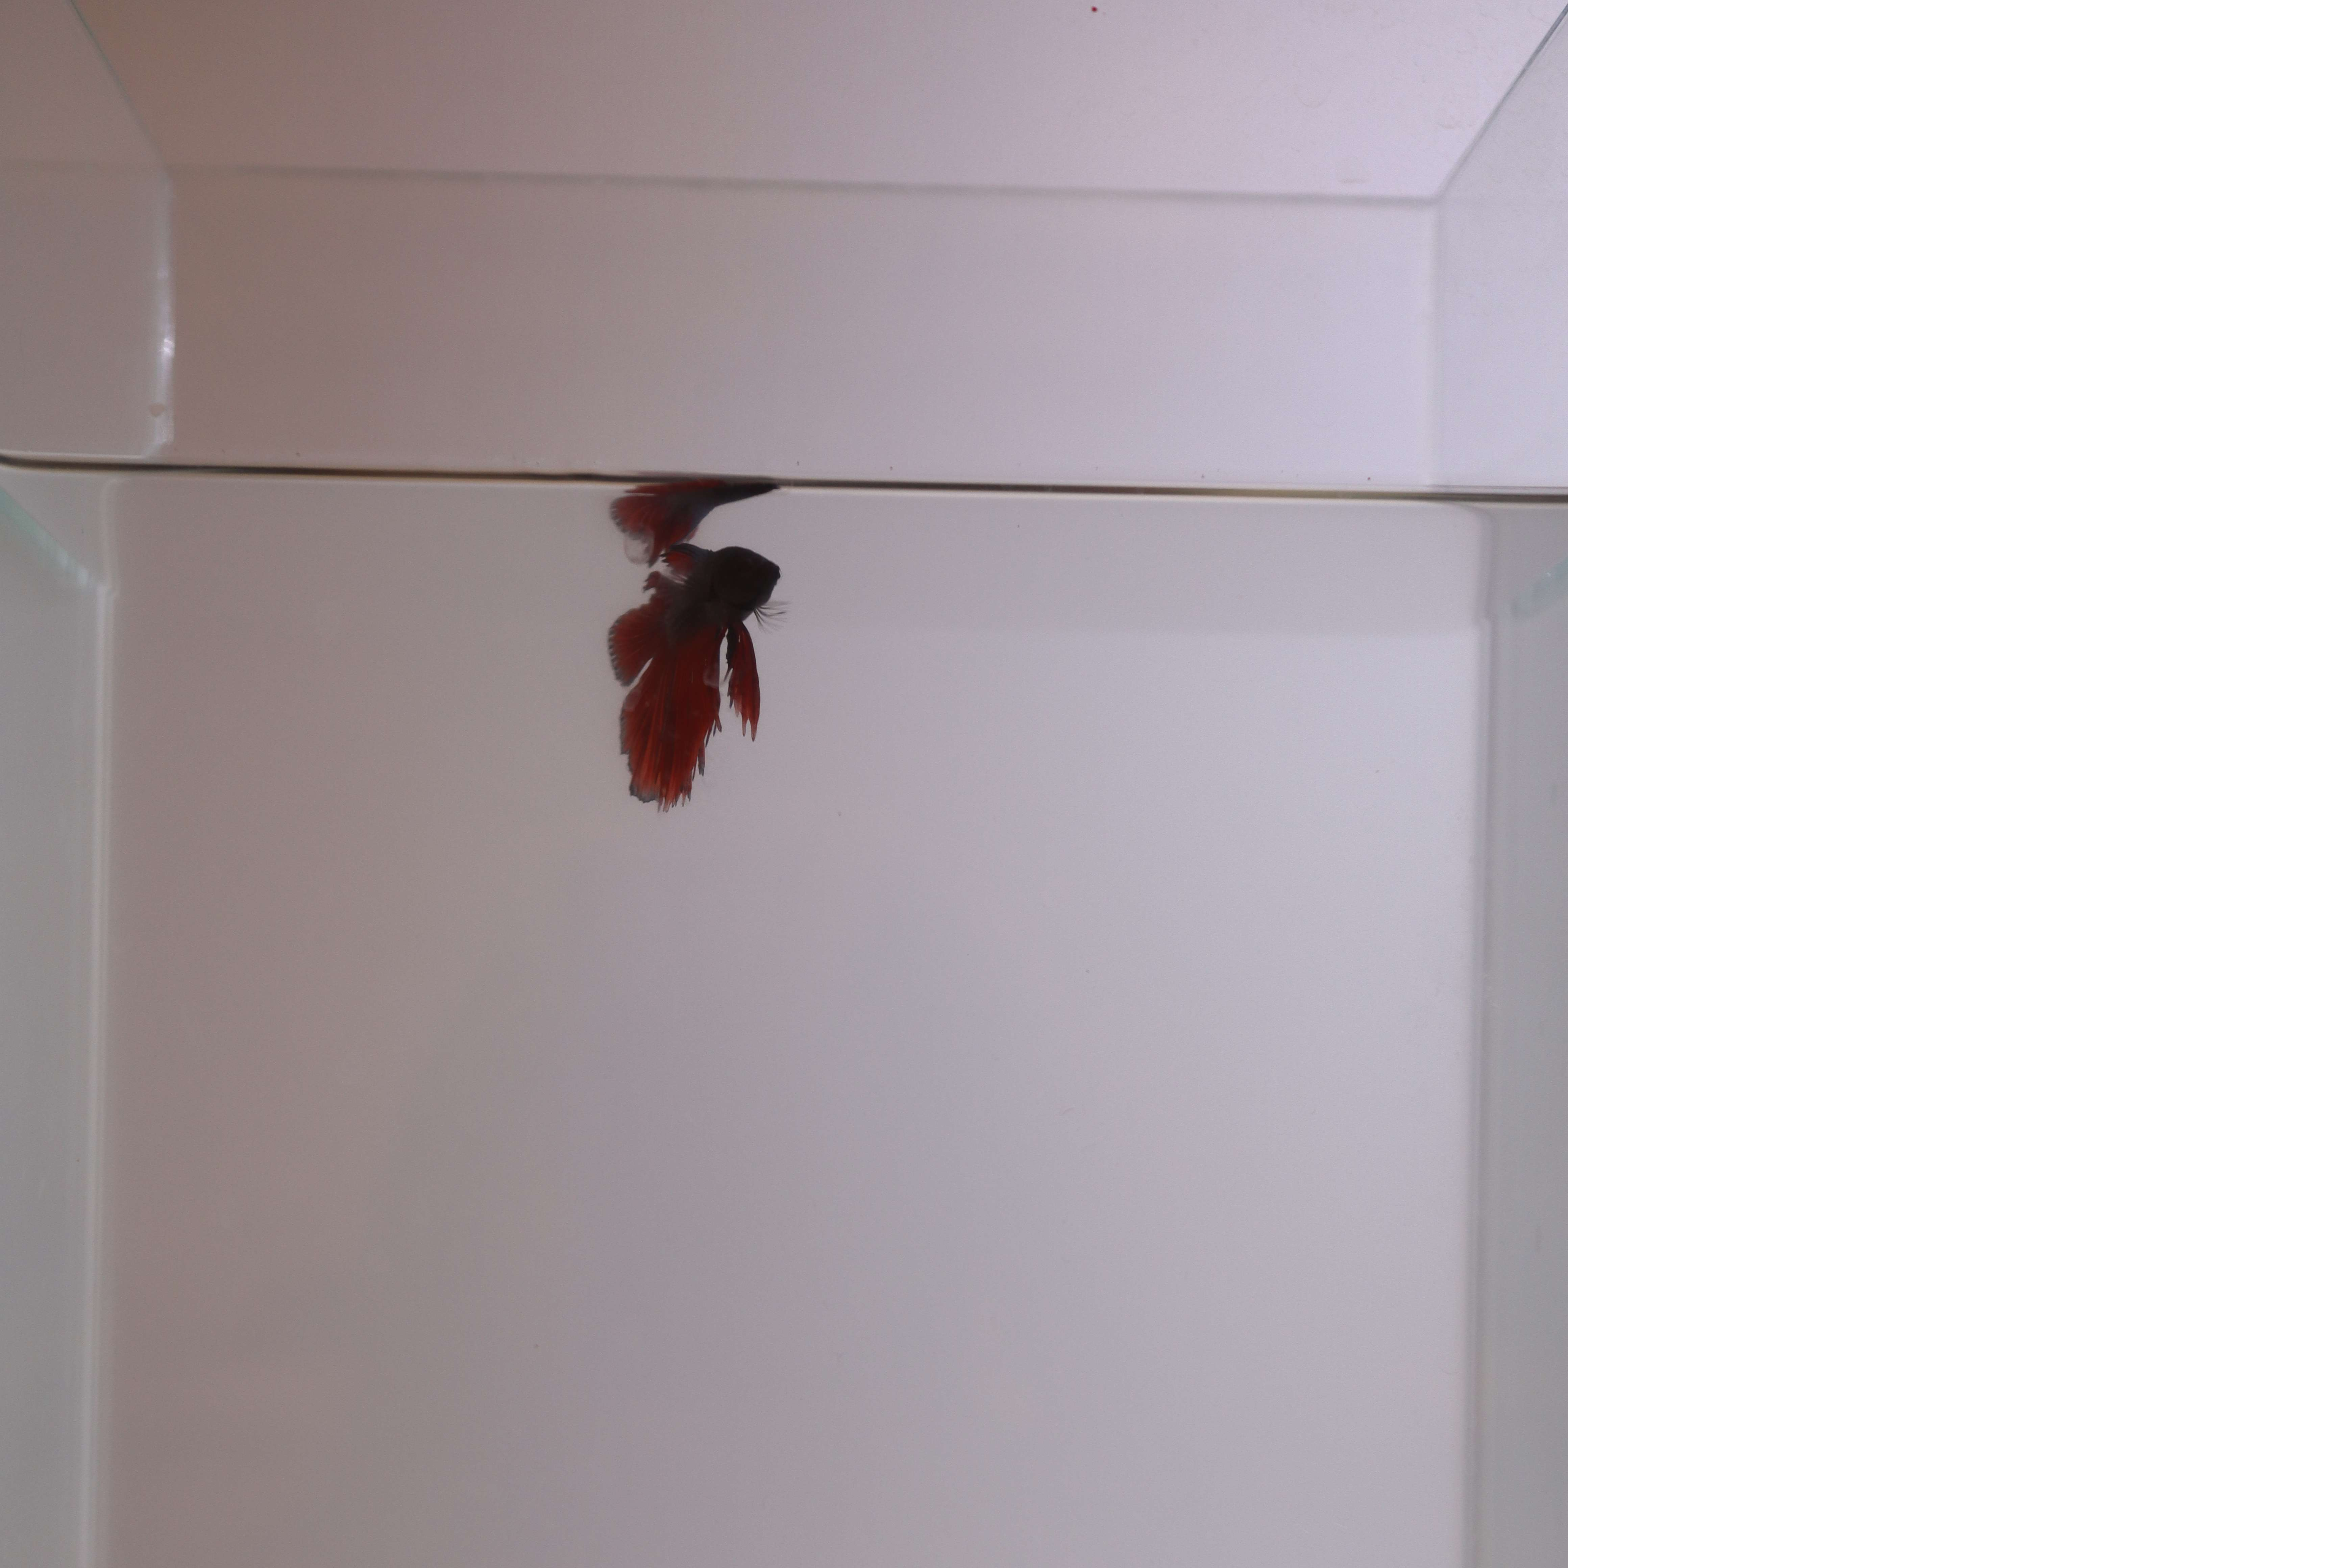fish: (588, 541, 815, 819)
